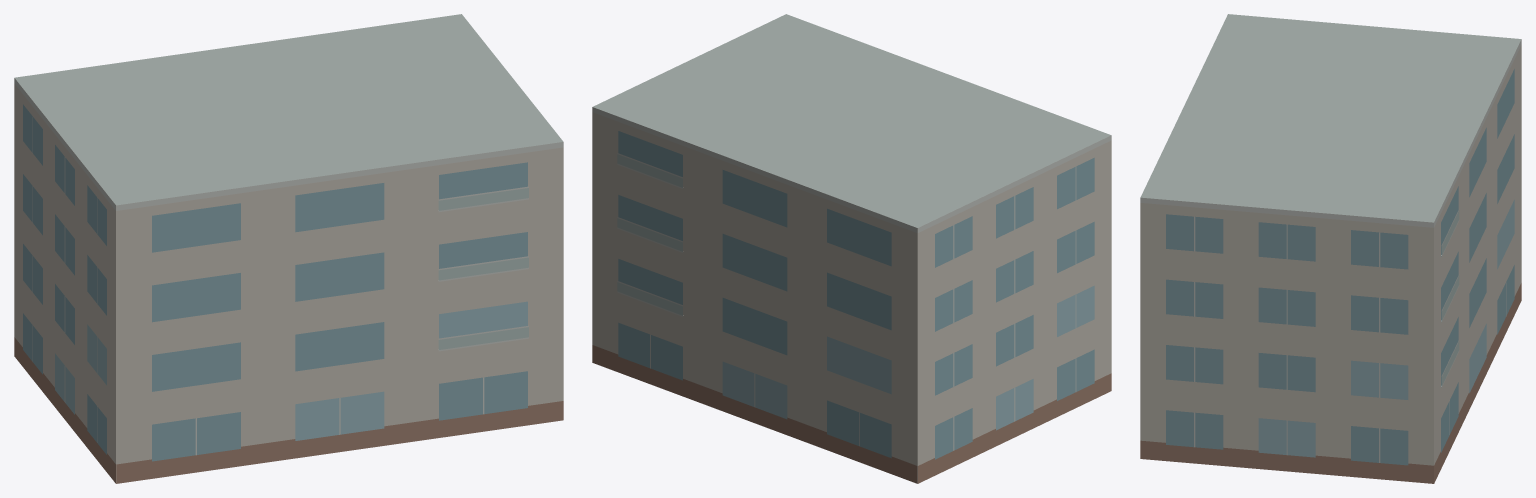
The model's file is residential-67c205d6-1980-415a-b5eb-ff9f037e5cb3.glb.
3 renders of one model, left to right at view 1: azimuth 30°, elevation 25°; view 2: azimuth 150°, elevation 25°; view 3: azimuth 270°, elevation 25°, orthographic. The views are drawn at different scales.
Parts seen in each view (by area): view 1: residential-67c205d6-1980-415a-b5eb-ff9f037e5cb3.tmp; view 2: residential-67c205d6-1980-415a-b5eb-ff9f037e5cb3.tmp; view 3: residential-67c205d6-1980-415a-b5eb-ff9f037e5cb3.tmp.
Boxes of the visible parts, bbox=[...] form: residential-67c205d6-1980-415a-b5eb-ff9f037e5cb3.tmp: bbox=[14, 14, 563, 483]; residential-67c205d6-1980-415a-b5eb-ff9f037e5cb3.tmp: bbox=[592, 14, 1111, 483]; residential-67c205d6-1980-415a-b5eb-ff9f037e5cb3.tmp: bbox=[1140, 14, 1521, 483].
Bounding box in the file's own units: 20.9 × 12.2 × 16.14.
